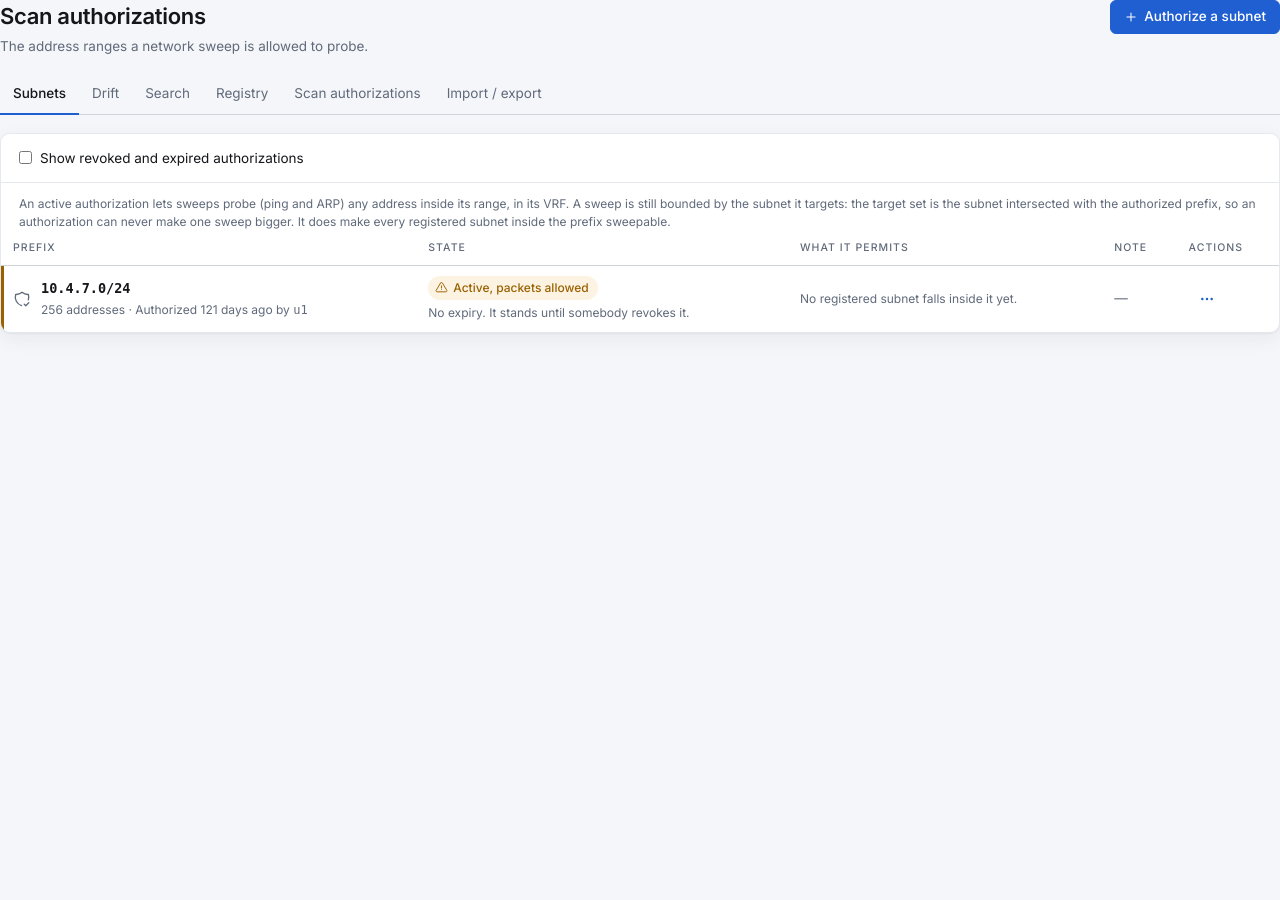
Scenario: a failure the user must be told about is announced, and is a sentence › names a bodyless 503 when REVOKING a scan authorization
Click the button named "More actions for ". click: (1206, 298)
box: [1188, 280, 1224, 316]
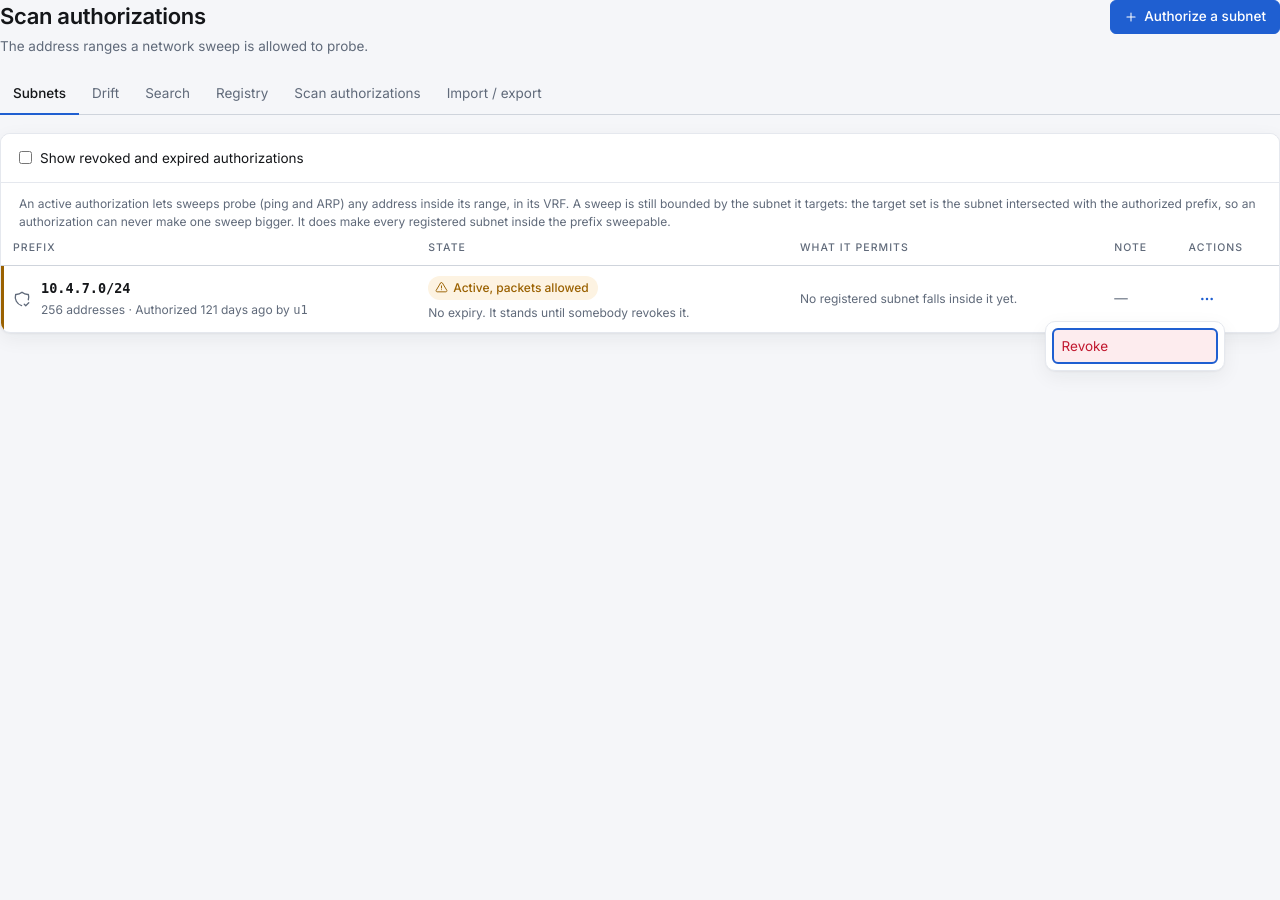
Click the menu item "Revoke". click: (1134, 346)
box: [1052, 328, 1218, 364]
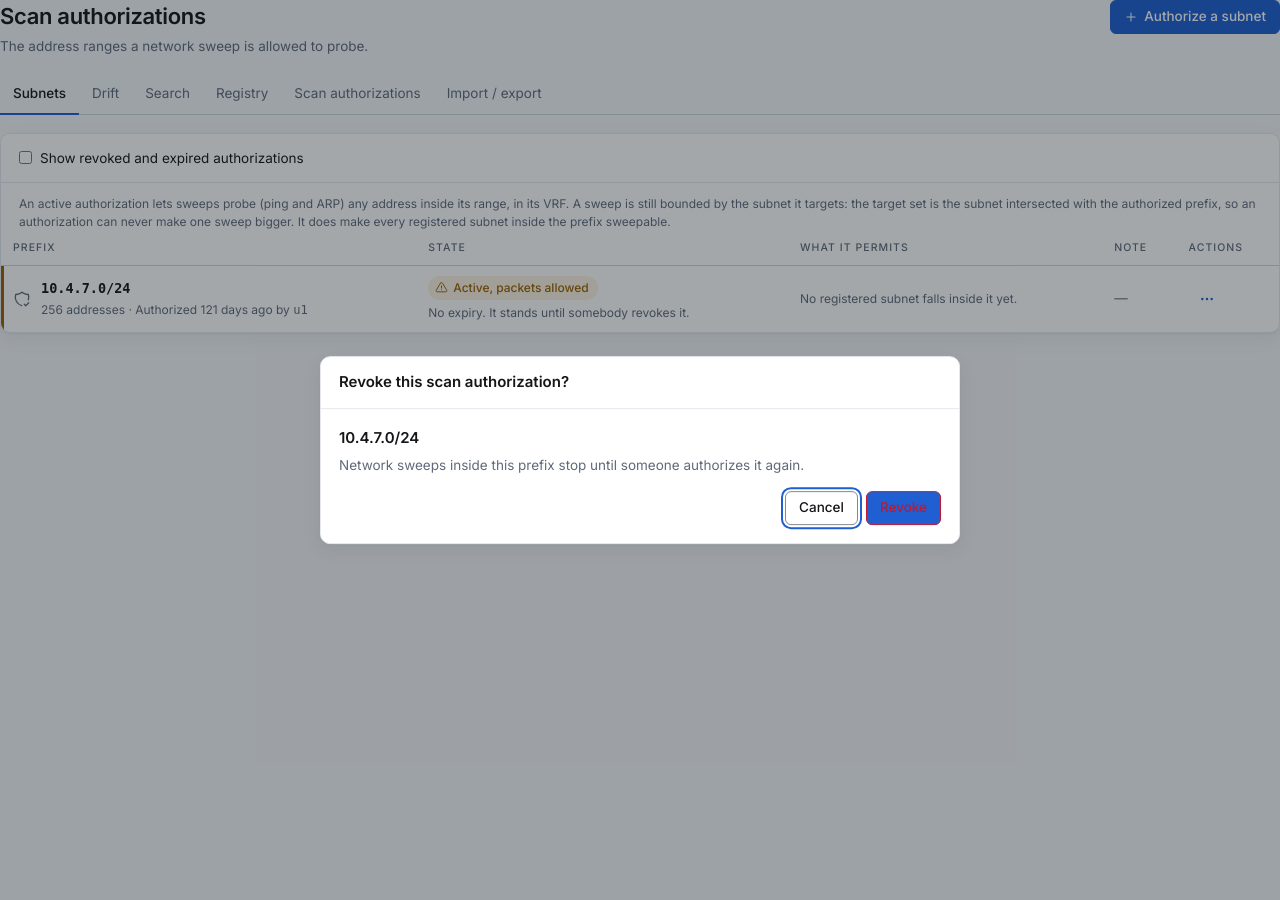
Revoking asks first.
Click the button "Revoke". click: (903, 508)
box: [866, 491, 941, 525]
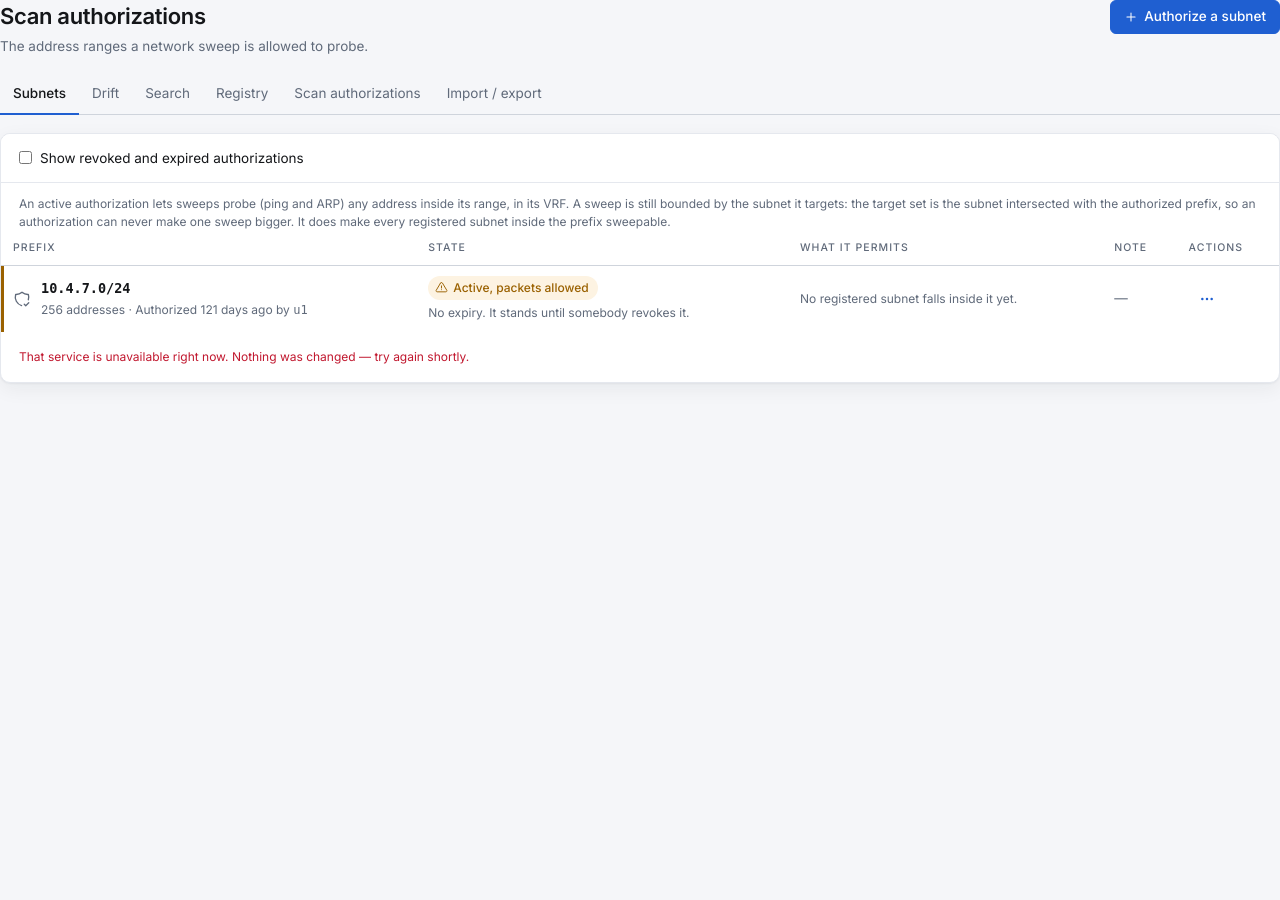
Result: the message shows "unavailable right now" at [19, 348, 469, 364]
Result: the message shows "Nothing was changed" at [19, 348, 469, 364]
